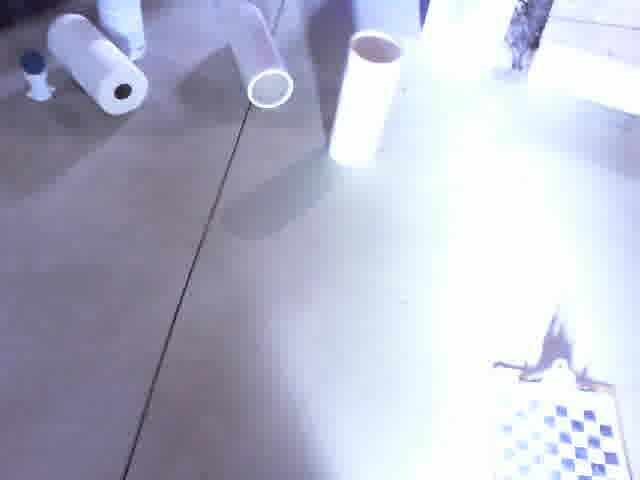coral: (320, 29, 407, 166), (523, 38, 640, 121), (218, 3, 301, 112)
